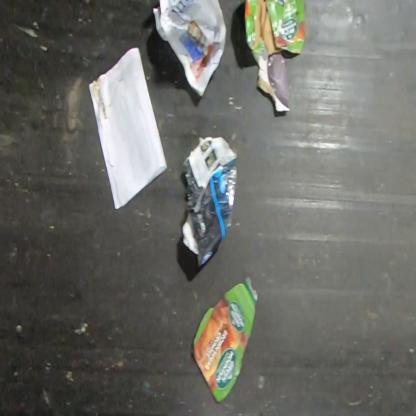cardboard: (192, 276, 260, 404), (243, 0, 307, 113)
